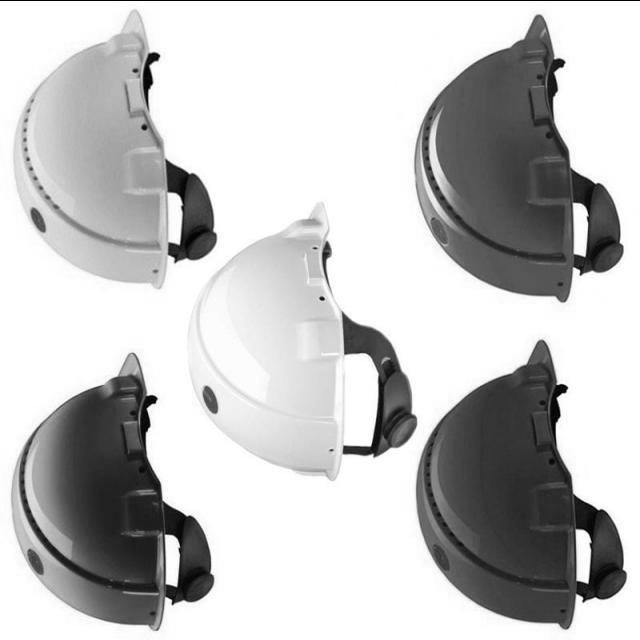construction helmet: (188, 200, 418, 480), (416, 337, 629, 630), (415, 13, 626, 303), (10, 7, 218, 290), (10, 352, 214, 630)
